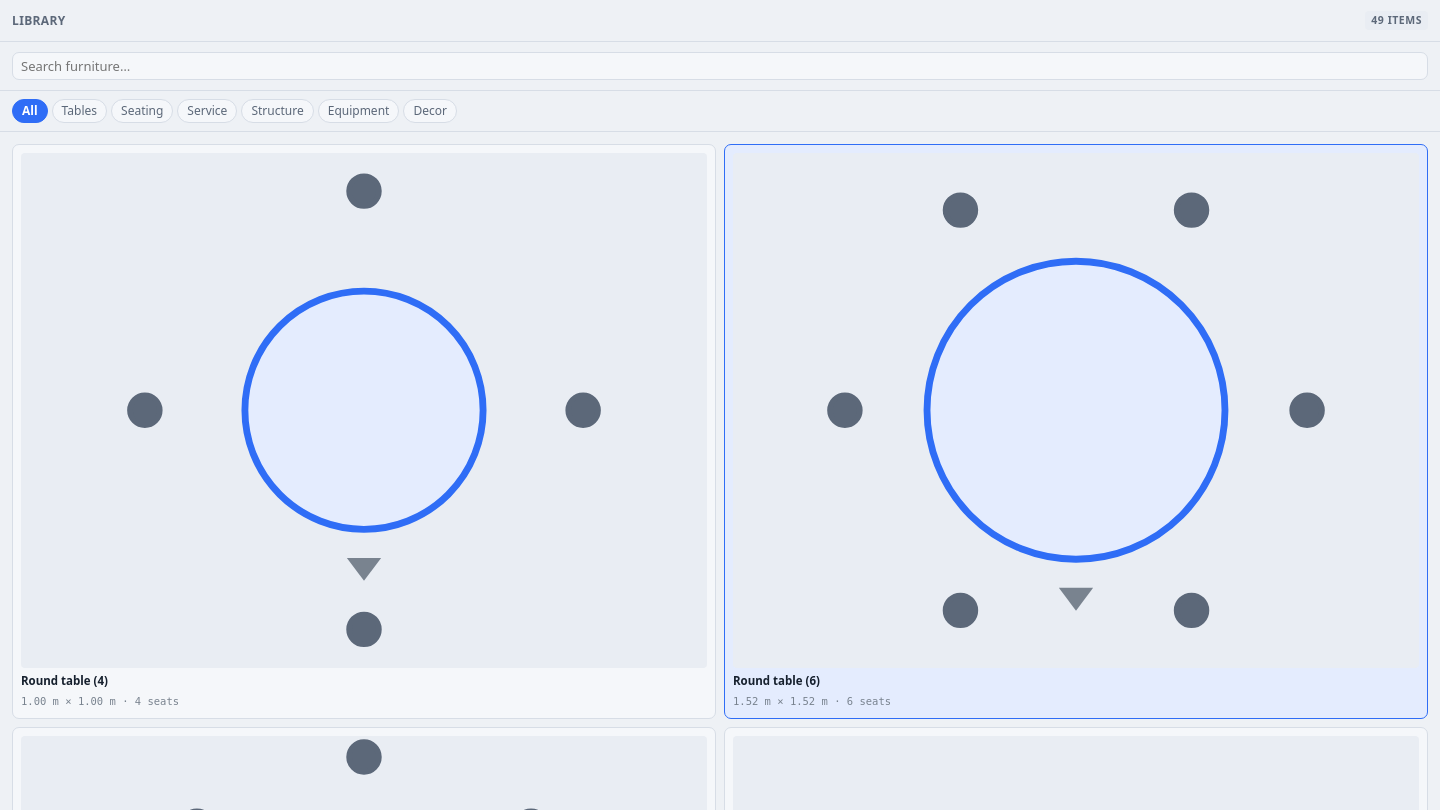
Scenario: the furniture catalog › says what to try instead when a search matches nothing
The image size is (1440, 810).
Type "helicopter" into the field named "Search the furniture catalog" at (720, 66), box [12,52,1428,80]
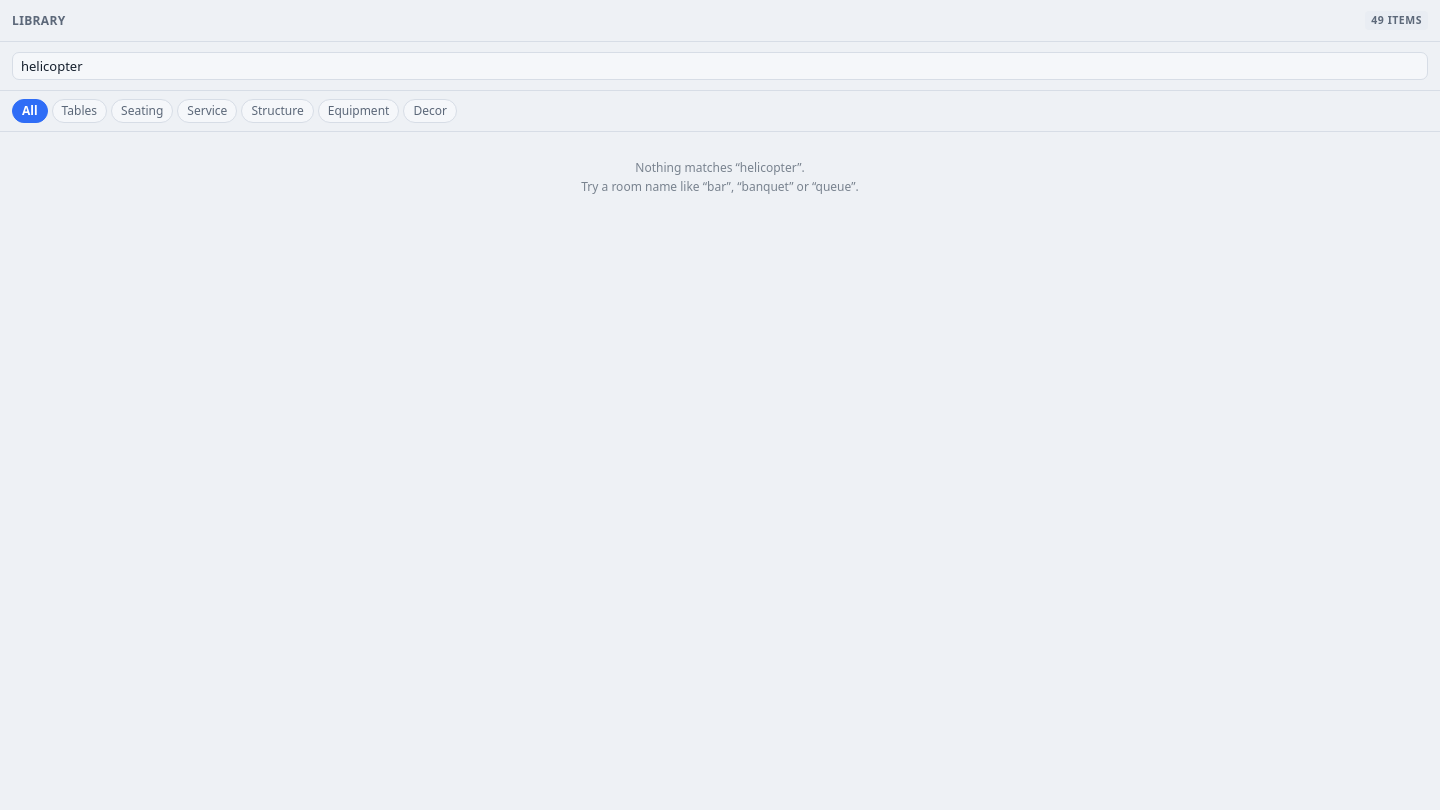
Now the text "Nothing matches" is shown, box [635,159,740,176]
Now the text "Try a room name" is shown, box [581,178,859,195]
